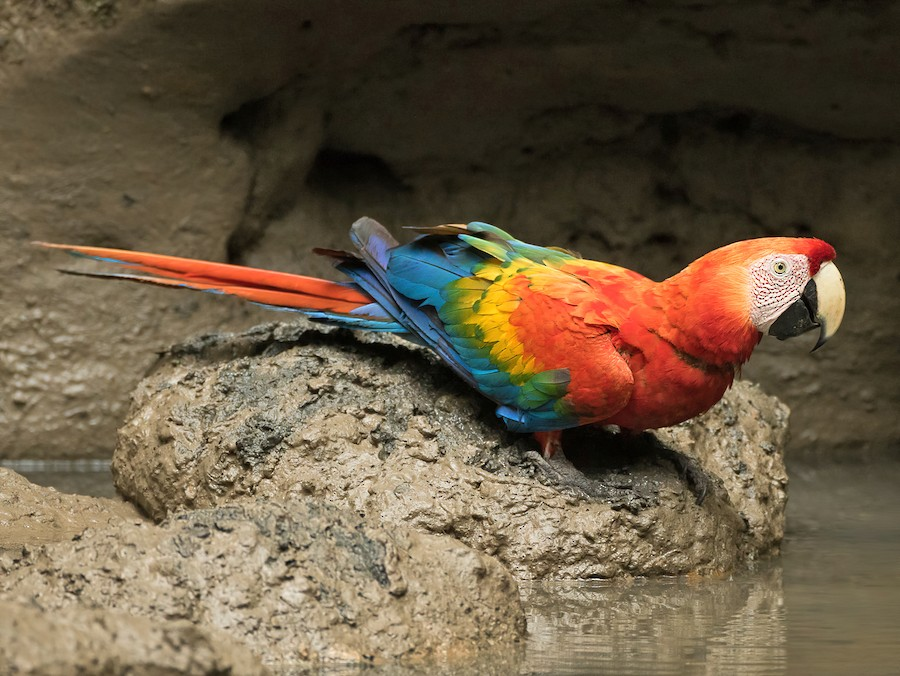Lapa: (22, 180, 868, 476)
